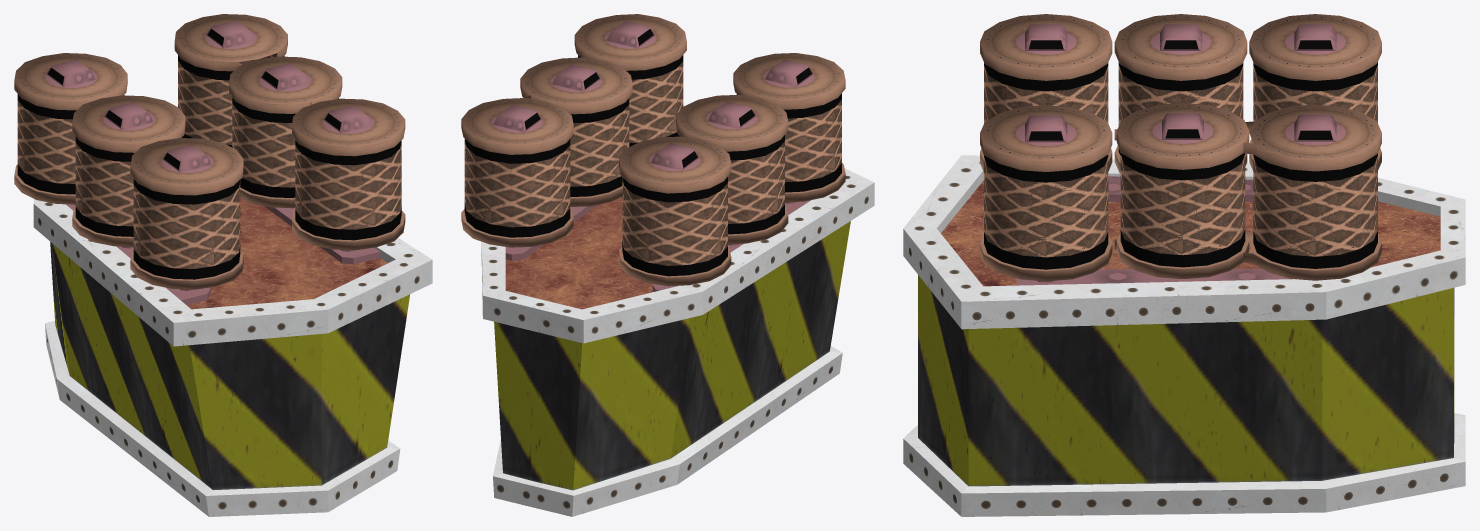
Rendered from Ob_GrindBooster2.fbx.
3 views of the same model, side by side, from view 1: azimuth 30°, elevation 25°; view 2: azimuth 150°, elevation 25°; view 3: azimuth 270°, elevation 25° (orthographic). The views are drawn at different scales.
Parts seen in each view (by area): view 1: w02_obj_grindbooster_railcanyon.001; view 2: w02_obj_grindbooster_railcanyon.001; view 3: w02_obj_grindbooster_railcanyon.001.
Boxes of the visible parts, <box> form: w02_obj_grindbooster_railcanyon.001: <box>14,14,432,516</box>; w02_obj_grindbooster_railcanyon.001: <box>461,14,874,516</box>; w02_obj_grindbooster_railcanyon.001: <box>903,14,1465,516</box>.
Bounding box in the file's own units: 193 × 236 × 310.
